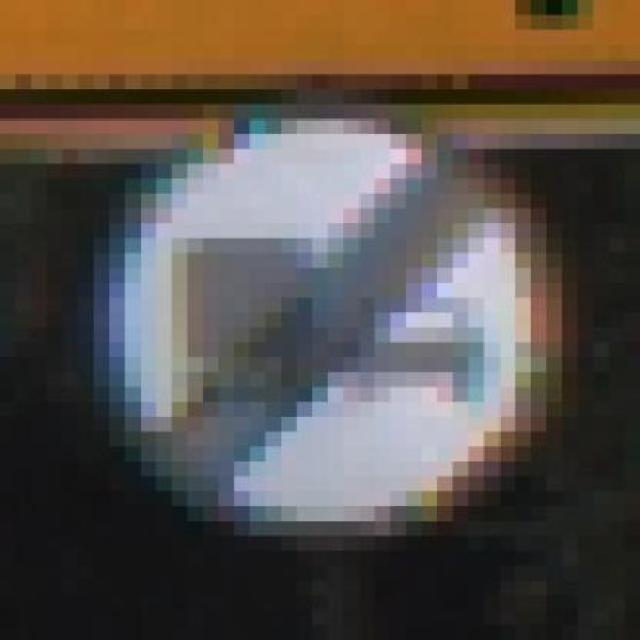Overtaking by trucks is prohibited: (62, 59, 593, 566)
